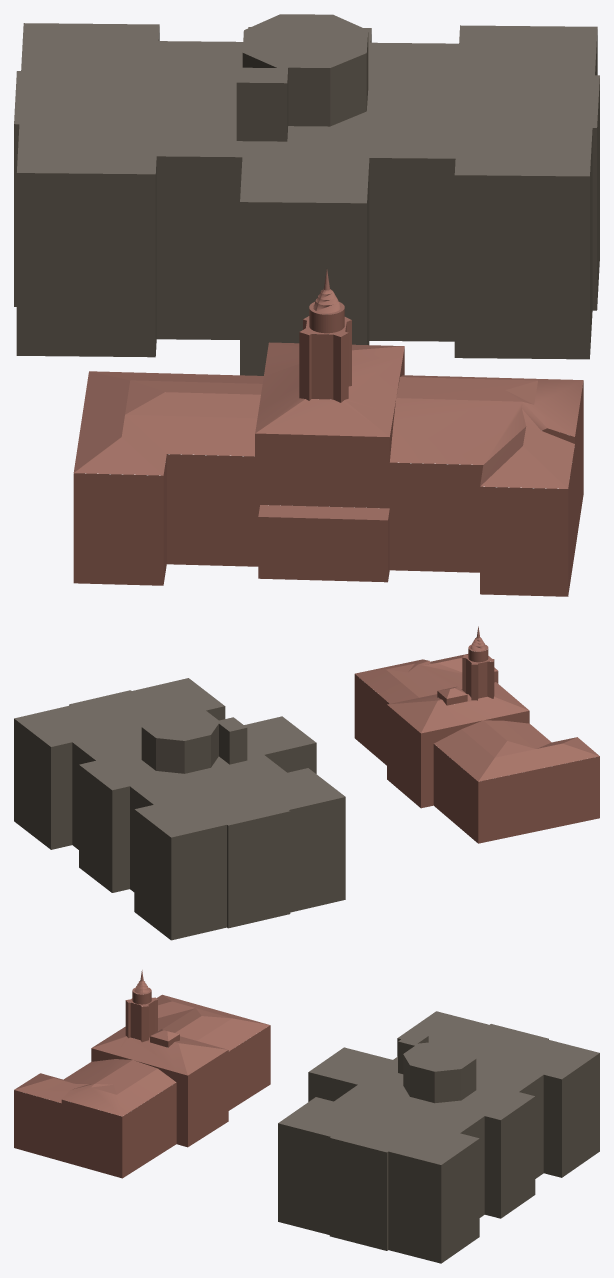
Rendered from tile--4_10.glb.
3 views of the same model, one above another, from view 1: azimuth 30°, elevation 25°; view 2: azimuth 150°, elevation 25°; view 3: azimuth 270°, elevation 25° (orthographic). The views are drawn at different scales.
Parts seen in each view (by area): view 1: wall, roof; view 2: wall, roof; view 3: wall, roof.
Boxes of the visible parts, <box> form: wall: <box>14,26,599,596</box>; roof: <box>14,14,599,520</box>; wall: <box>14,648,599,940</box>; roof: <box>14,626,599,837</box>; wall: <box>14,991,599,1263</box>; roof: <box>14,970,599,1164</box>.
Bounding box in the file's own units: 121 × 41.24 × 146.
